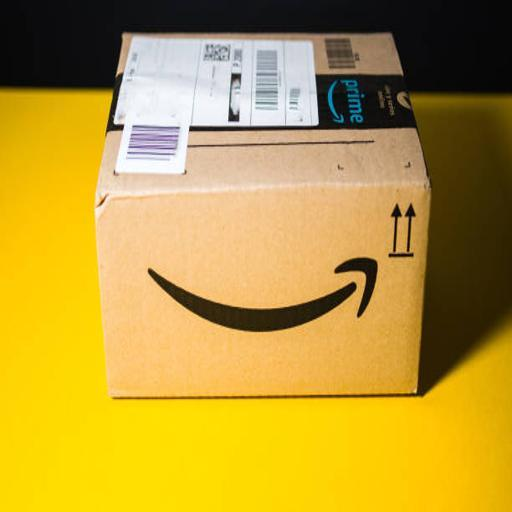Amazon: (92, 33, 438, 404)
